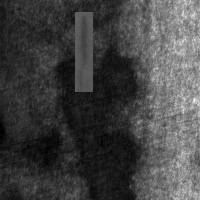inclusion: (75, 12, 93, 92)
patches: (57, 47, 143, 198), (17, 128, 64, 171)
